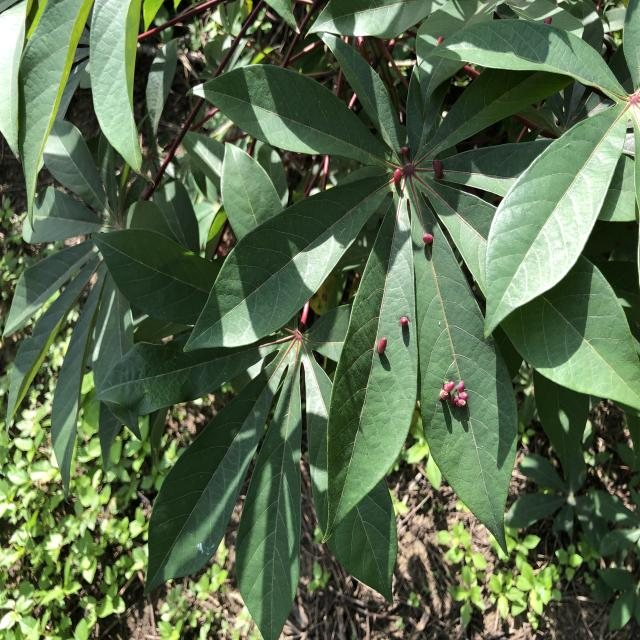Mosca: (358, 303, 427, 354), (374, 131, 419, 193), (414, 142, 465, 193), (432, 367, 481, 418), (423, 30, 452, 59), (413, 232, 441, 258), (541, 8, 565, 34)
